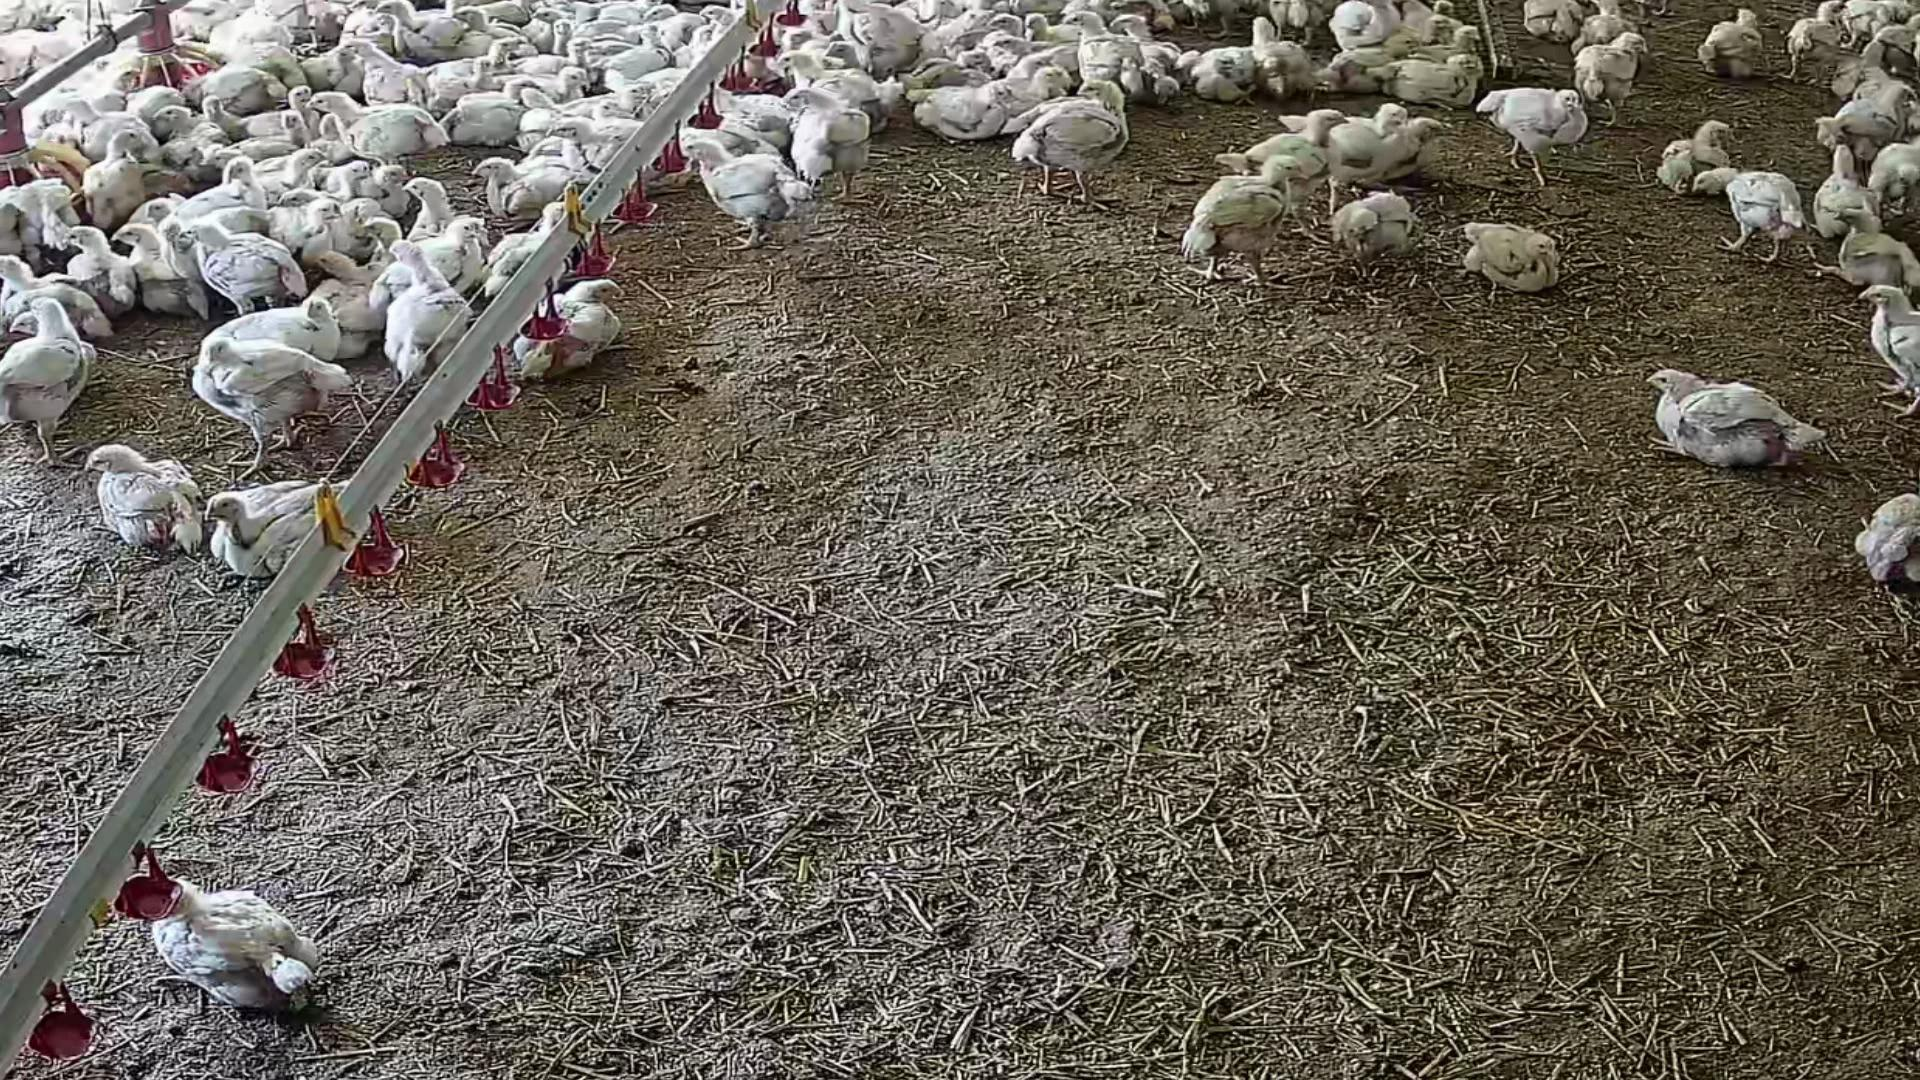poussin: (113, 833, 302, 1047), (1631, 348, 1849, 530), (177, 323, 361, 459), (0, 294, 117, 463), (208, 473, 380, 588), (1692, 150, 1829, 291), (1452, 211, 1604, 319), (1011, 79, 1138, 203), (683, 131, 807, 255), (171, 203, 310, 314), (1477, 76, 1617, 185), (360, 265, 472, 392), (7, 248, 132, 360), (1199, 166, 1313, 284), (1837, 268, 1920, 429), (1229, 84, 1352, 190), (309, 87, 455, 174), (535, 291, 663, 390), (229, 277, 368, 365), (87, 442, 186, 564), (782, 84, 880, 202), (1580, 18, 1673, 138), (1815, 55, 1920, 156), (1700, 11, 1811, 105), (113, 204, 204, 318), (480, 145, 603, 223), (1109, 3, 1196, 109), (1630, 105, 1735, 190), (1332, 200, 1439, 282), (150, 108, 253, 193), (909, 76, 1017, 156), (63, 204, 137, 318), (1064, 12, 1146, 112), (1366, 41, 1486, 108), (73, 140, 162, 222), (407, 182, 491, 269), (1836, 214, 1920, 297), (1238, 13, 1327, 92), (436, 84, 541, 150), (849, 0, 935, 79), (376, 0, 484, 62), (774, 42, 876, 107), (334, 40, 433, 105), (1821, 141, 1884, 243), (1321, 98, 1403, 175), (1862, 492, 1920, 601), (385, 235, 465, 313), (1178, 24, 1258, 98), (556, 108, 650, 167), (61, 87, 146, 150), (1518, 0, 1604, 61), (600, 22, 676, 79), (1789, 0, 1859, 61), (446, 7, 530, 55), (199, 67, 287, 113), (224, 44, 310, 88), (939, 4, 1000, 63), (1333, 32, 1407, 79), (716, 90, 783, 141), (170, 88, 251, 131), (1333, 0, 1402, 49), (245, 116, 323, 154), (1873, 3, 1920, 65), (324, 156, 377, 211), (237, 87, 324, 120), (1019, 62, 1076, 111), (924, 50, 1005, 84), (530, 62, 605, 96), (1410, 112, 1458, 165), (398, 167, 447, 220), (270, 142, 326, 189), (438, 62, 508, 98), (367, 161, 415, 207), (150, 99, 207, 127), (819, 34, 864, 67), (700, 0, 741, 36), (1006, 45, 1056, 74), (1448, 22, 1490, 57), (1407, 12, 1457, 40), (993, 30, 1038, 61), (361, 210, 397, 245), (642, 3, 687, 28), (553, 17, 582, 54), (1023, 11, 1059, 40), (527, 0, 567, 25), (988, 13, 1029, 36)
